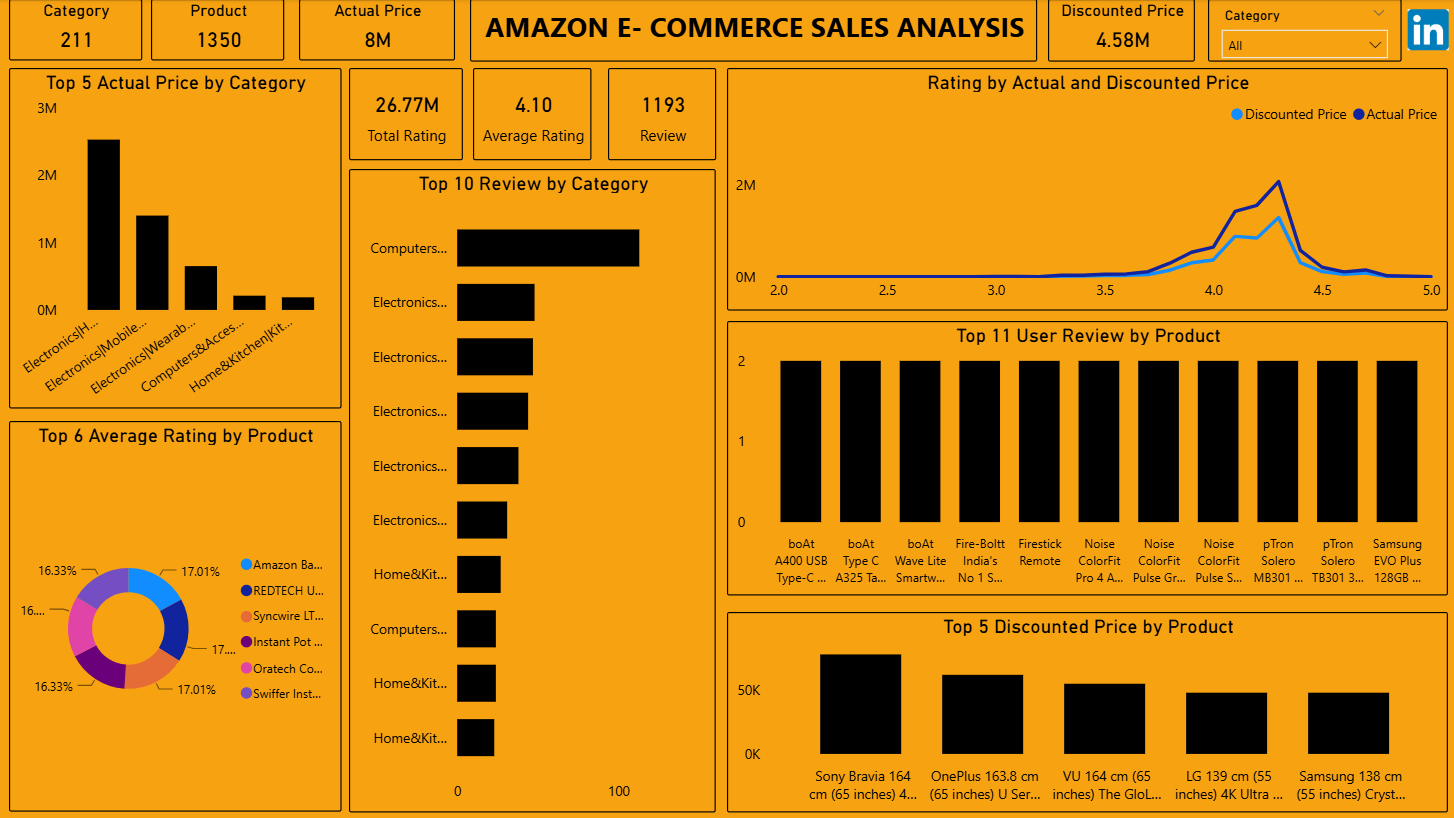

What the dashboard file says about the page in this screenshot:
{"tool":"powerbi","page":{"name":"Page 1","canvas":[1280,720],"ordinal":0},"visuals":[{"type":"card","title":"Product","fields":{"Values":["Dax.Total product"]},"box":[134.8,0,117,54.1],"z":0},{"type":"card","fields":{"Values":["Dax.Total Rating"]},"box":[308.2,60.6,100.1,80.8],"z":1000},{"type":"card","title":"Actual Price","fields":{"Values":["Sum(Amazon Sales.actual_price)"]},"box":[264.2,0,136.6,54.1],"z":2000},{"type":"card","title":"Discounted Price","fields":{"Values":["Sum(Amazon Sales.discounted_price)"]},"box":[922.2,0,129.5,55],"z":3000},{"type":"donutChart","title":"Top 6 Average Rating by Product","fields":{"Category":["Amazon Sales.product_name"],"Y":["Dax.Avg Rating"]},"box":[9.7,370.5,291.5,343.3],"z":4000},{"type":"card","title":"Category","fields":{"Values":["Dax.Total category"]},"box":[9.7,0,116.8,54.4],"z":5000},{"type":"card","fields":{"Values":["Dax.Avg Rating"]},"box":[417.1,60.6,104.5,80.8],"z":6000},{"type":"card","fields":{"Values":["Dax.Total review"]},"box":[535.6,60.6,94.8,80.8],"z":7000},{"type":"lineChart","title":"Rating by Actual and Discounted Price","fields":{"Y":["Dax.Discounted Price","Dax.Actual Price"],"Category":["Amazon Sales.rating"]},"box":[640.1,60.6,633.1,213.4],"z":8000},{"type":"clusteredBarChart","title":"Top 10 Review by Category","fields":{"Category":["Amazon Sales.category"],"Y":["Dax.Total review"]},"box":[308.2,149.3,322.2,564.6],"z":9000},{"type":"clusteredColumnChart","title":"Top 11 User Review by Product","fields":{"Category":["Amazon Sales.product_name"],"Y":["Dax.User Review"]},"box":[640.1,282.7,633.1,240.6],"z":10000},{"type":"clusteredColumnChart","title":"Top 5 Actual Price by Category","fields":{"Y":["Sum(Amazon Sales.actual_price)"],"Category":["Amazon Sales.category"]},"box":[9.7,60.6,291.5,299.4],"z":11000},{"type":"clusteredColumnChart","title":"Top 5 Discounted Price by Product","fields":{"Y":["Sum(Amazon Sales.discounted_price)"],"Category":["Amazon Sales.product_name"]},"box":[640.1,538.2,633.1,175.6],"z":12000},{"type":"textbox","box":[414.1,0,498.3,55],"z":13000},{"type":"slicer","fields":{"Values":["Amazon Sales.category"]},"box":[1062.4,0,170.3,55.3],"z":14000},{"type":"image","box":[1232.5,0,46.1,54.1],"z":15000}]}

Visuals, with their boxes in screenshot pixels (x1, y1, x2, y2), scaled from the page's 1280x720 canvas onto the 1454x818 screenshot:
"Product" card: [153, 0, 286, 61]
card - Dax.Total Rating: [350, 69, 464, 161]
"Actual Price" card: [300, 0, 455, 61]
"Discounted Price" card: [1048, 0, 1195, 62]
"Top 6 Average Rating by Product" donutChart: [11, 421, 342, 811]
"Category" card: [11, 0, 144, 62]
card - Dax.Avg Rating: [474, 69, 593, 161]
card - Dax.Total review: [608, 69, 716, 161]
"Rating by Actual and Discounted Price" lineChart: [727, 69, 1446, 311]
"Top 10 Review by Category" clusteredBarChart: [350, 170, 716, 811]
"Top 11 User Review by Product" clusteredColumnChart: [727, 321, 1446, 595]
"Top 5 Actual Price by Category" clusteredColumnChart: [11, 69, 342, 409]
"Top 5 Discounted Price by Product" clusteredColumnChart: [727, 611, 1446, 811]
textbox: [470, 0, 1036, 62]
slicer - Amazon Sales.category: [1207, 0, 1400, 63]
image: [1400, 0, 1452, 61]
